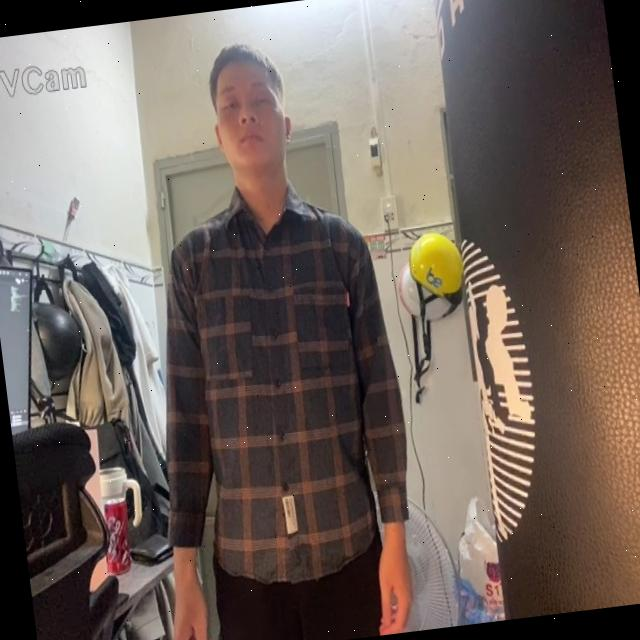u: (166, 187, 405, 582)
